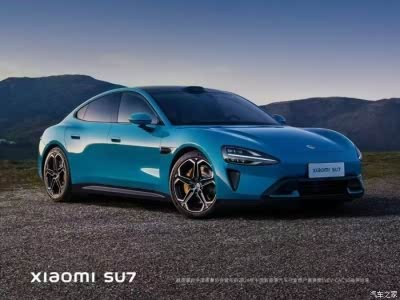su7: (36, 83, 367, 216)
